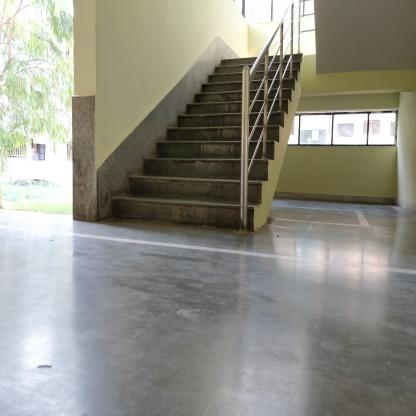stairs: (189, 102, 239, 234)
